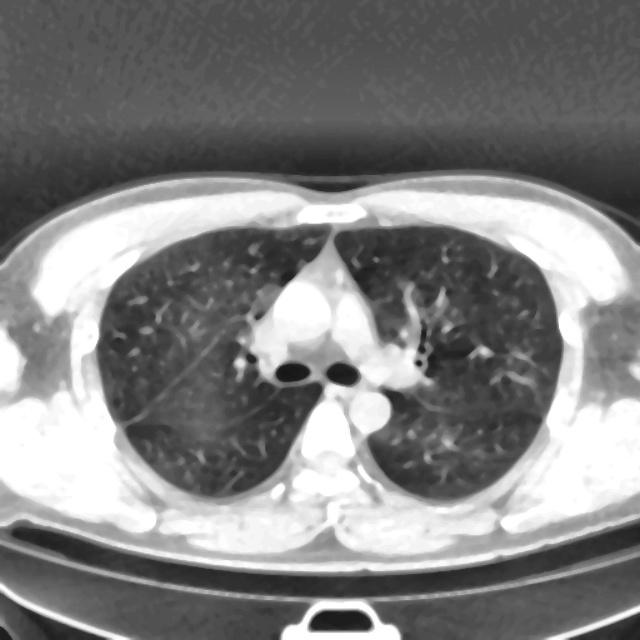covid: (1, 169, 638, 576)
